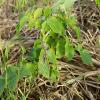Potato leaf late blight: (37, 47, 50, 79), (45, 48, 58, 68)
